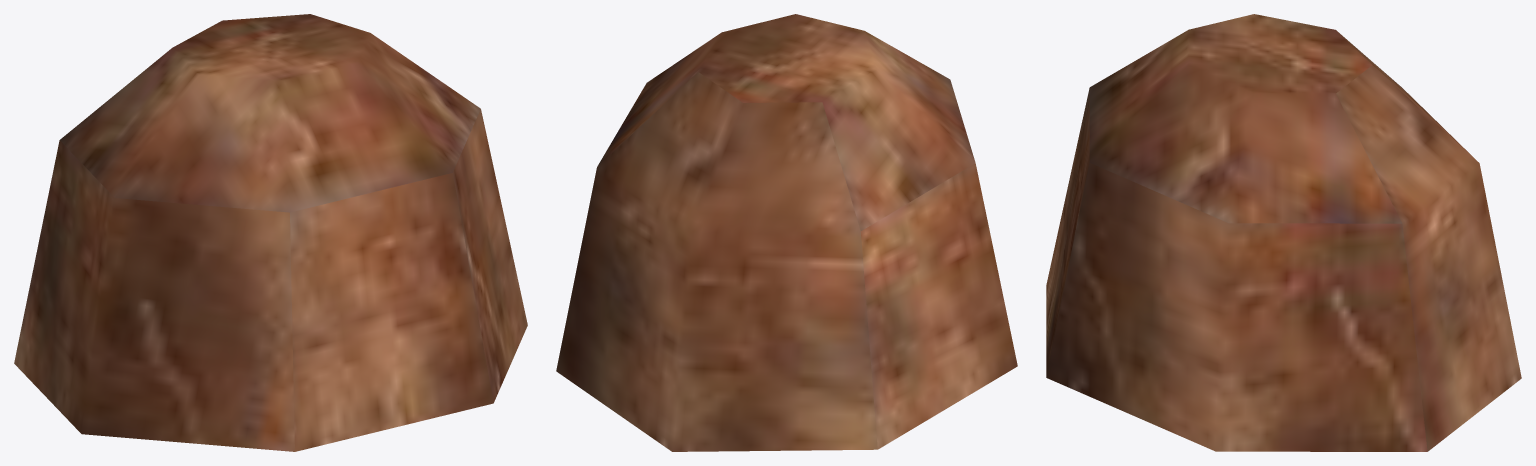
File: Yam_002.glb
3 renders of one model, left to right at view 1: azimuth 30°, elevation 25°; view 2: azimuth 150°, elevation 25°; view 3: azimuth 270°, elevation 25°, orthographic. The views are drawn at different scales.
Parts seen in each view (by area): view 1: Yam.002; view 2: Yam.002; view 3: Yam.002.
Boxes of the visible parts, <box> form: Yam.002: <box>14,14,527,451</box>; Yam.002: <box>556,14,1017,451</box>; Yam.002: <box>1046,14,1521,451</box>.
Bounding box in the file's own units: 0.0898 × 0.0672 × 0.0874.
Materials: 1 (1 with a texture image).
